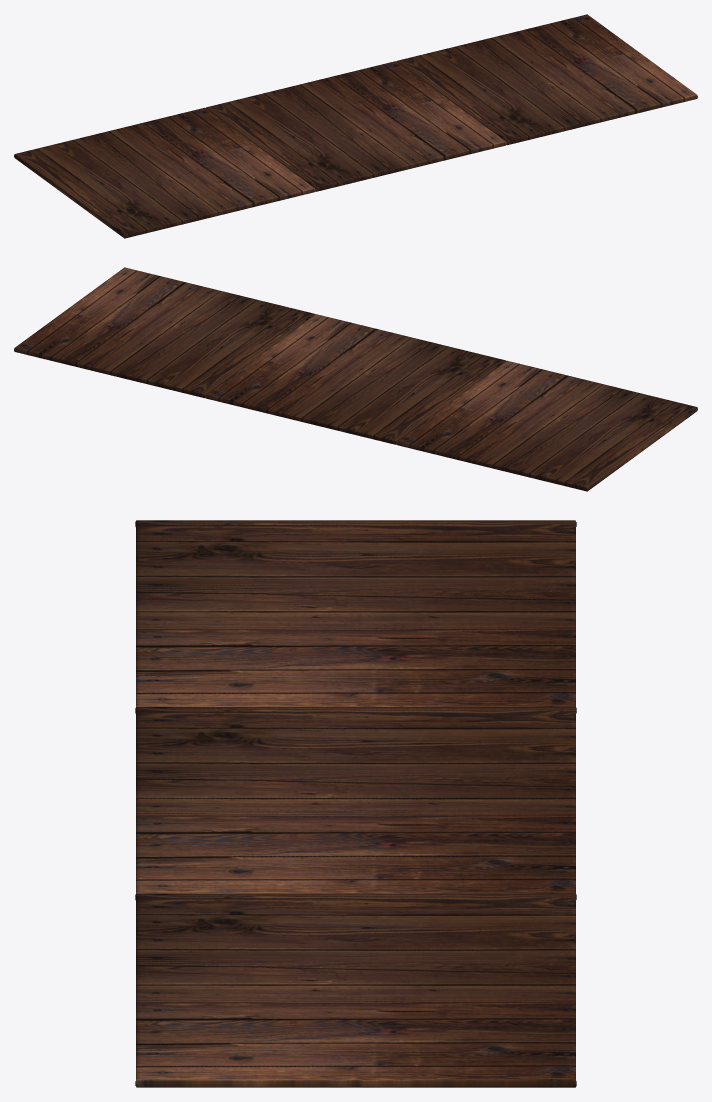
Rendered from wood_floor_plane__free_assest.glb.
3 views of the same model, one above another, from view 1: azimuth 30°, elevation 25°; view 2: azimuth 150°, elevation 25°; view 3: azimuth 270°, elevation 25° (orthographic). The views are drawn at different scales.
Parts seen in each view (by area): view 1: Plane; view 2: Plane; view 3: Plane.
Part boxes in pixels (<box>): Plane: <box>14,14,697,238</box>; Plane: <box>14,267,697,491</box>; Plane: <box>135,520,576,1087</box>.
Bounding box in the file's own units: 4188 × 29.3 × 1396.
Materials: 1 (1 with a texture image).
